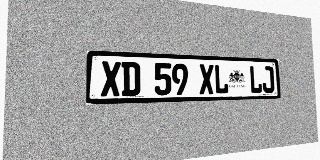5: (154, 63, 172, 95)
9: (172, 63, 188, 95)
D: (122, 62, 140, 96)
J: (262, 66, 274, 93)
L: (214, 64, 229, 94), (249, 66, 262, 93)
X: (101, 61, 121, 97), (199, 64, 214, 94)
